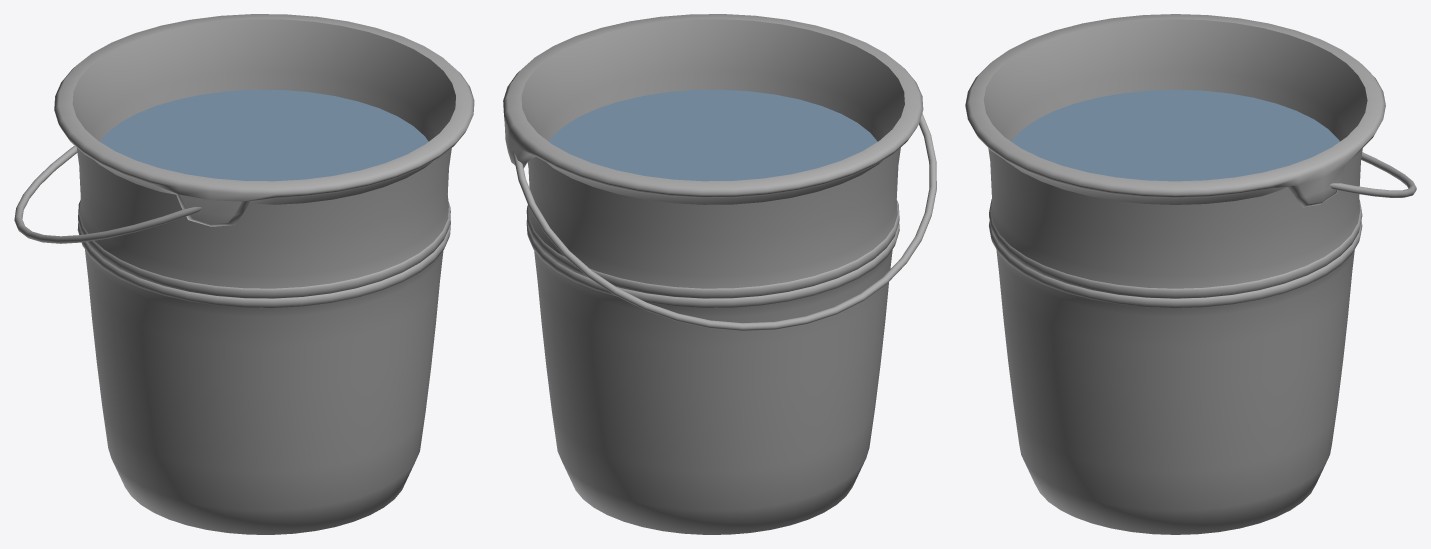
Rendered from bucketfilled.fbx.
3 views of the same model, side by side, from view 1: azimuth 30°, elevation 25°; view 2: azimuth 150°, elevation 25°; view 3: azimuth 270°, elevation 25° (orthographic).
Parts seen in each view (by area): view 1: core, inside, pDisc1, border, upperband, lowerband, handle; view 2: core, inside, pDisc1, border, handle, upperband, lowerband; view 3: core, inside, pDisc1, border, upperband, lowerband, handle.
Part boxes in pixels (<box>): core: <box>76,148,451,534</box>; inside: <box>72,19,455,224</box>; pDisc1: <box>100,89,428,181</box>; border: <box>54,14,474,226</box>; upperband: <box>78,199,450,298</box>; lowerband: <box>77,219,450,307</box>; handle: <box>14,145,201,243</box>; core: <box>527,147,900,534</box>; inside: <box>521,19,904,141</box>; pDisc1: <box>549,89,877,181</box>; border: <box>503,14,923,204</box>; handle: <box>513,113,936,330</box>; upperband: <box>526,199,899,298</box>; lowerband: <box>526,219,899,307</box>; core: <box>988,148,1362,534</box>; inside: <box>983,19,1367,141</box>; pDisc1: <box>1011,89,1339,181</box>; border: <box>965,14,1385,207</box>; upperband: <box>989,199,1362,298</box>; lowerband: <box>989,221,1362,307</box>; handle: <box>1330,152,1416,197</box>.
Size of the model in its own units: 1.12 by 1.05 by 1.12.
